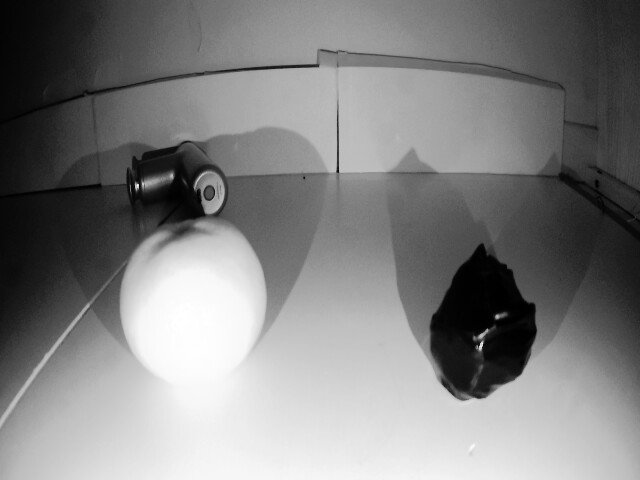black: (425, 261, 548, 397)
